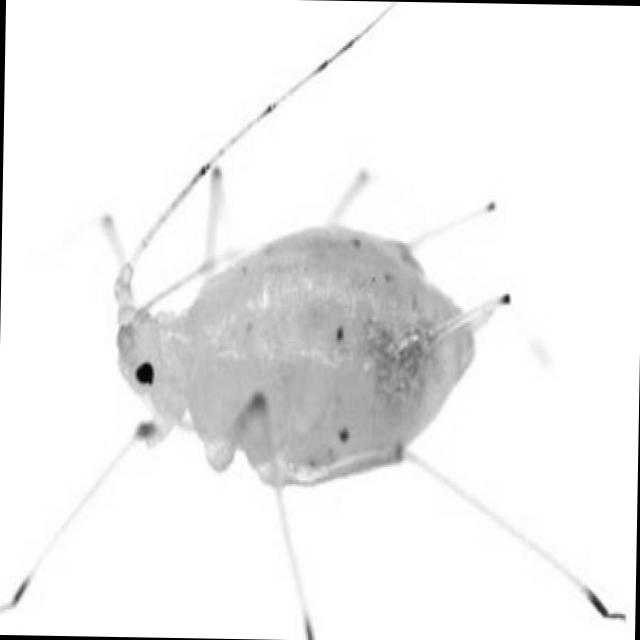Aphids: (6, 64, 599, 640)
